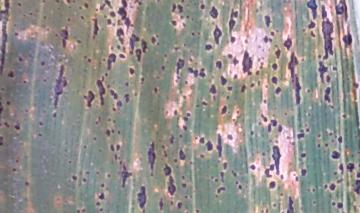tarspot: (287, 50, 305, 106), (1, 1, 14, 76), (320, 2, 336, 58), (52, 58, 69, 108), (240, 47, 255, 79), (115, 1, 133, 27), (134, 181, 148, 213), (228, 10, 241, 44), (146, 139, 157, 177), (115, 162, 133, 184), (163, 175, 178, 198), (272, 142, 282, 176), (82, 87, 97, 109), (127, 32, 139, 56), (59, 24, 70, 50), (173, 54, 186, 76), (215, 131, 225, 159), (96, 78, 106, 106), (212, 23, 223, 47), (322, 83, 334, 104), (283, 194, 296, 213), (90, 16, 100, 40), (318, 58, 327, 84), (105, 51, 118, 69), (114, 26, 126, 45), (207, 5, 221, 21), (107, 85, 121, 101), (340, 33, 355, 47), (262, 11, 273, 30), (283, 33, 294, 51), (329, 147, 343, 161), (335, 5, 348, 19), (140, 36, 150, 54), (175, 148, 187, 162), (352, 176, 360, 197), (150, 83, 162, 97), (227, 167, 241, 179), (207, 80, 218, 95), (48, 109, 63, 120), (157, 197, 167, 213), (185, 65, 197, 78), (199, 97, 212, 109), (348, 77, 360, 90), (102, 126, 113, 140), (218, 102, 229, 116), (12, 120, 22, 135), (197, 132, 207, 147), (205, 138, 214, 154), (123, 90, 131, 108), (161, 162, 172, 175), (344, 161, 357, 172), (175, 198, 186, 211), (339, 111, 352, 122), (215, 58, 225, 72), (245, 80, 260, 89), (198, 65, 207, 80), (168, 133, 177, 148), (308, 30, 319, 42), (21, 177, 33, 188), (179, 92, 191, 103), (247, 127, 258, 139), (273, 47, 283, 60), (127, 65, 137, 78), (337, 162, 347, 175), (1, 117, 11, 130), (225, 130, 234, 144), (14, 54, 25, 65), (69, 172, 80, 183), (258, 111, 269, 122), (97, 180, 108, 191), (303, 86, 314, 97), (198, 1, 208, 13), (103, 17, 115, 27), (36, 118, 46, 130), (216, 184, 228, 194), (80, 1, 92, 11), (9, 165, 21, 175), (84, 56, 96, 66), (205, 41, 214, 54), (274, 84, 283, 97), (330, 62, 339, 75), (7, 67, 15, 81), (220, 74, 228, 88), (150, 33, 158, 47), (218, 169, 226, 183), (269, 62, 280, 72), (248, 162, 258, 173), (296, 131, 307, 141), (262, 34, 272, 45), (180, 123, 191, 133), (307, 19, 316, 31), (4, 97, 13, 109), (171, 106, 180, 118), (178, 181, 190, 190), (329, 180, 336, 195), (177, 1, 184, 16), (268, 178, 276, 191), (322, 181, 330, 194), (336, 134, 346, 144), (313, 139, 323, 149), (198, 151, 208, 161), (37, 58, 46, 69), (182, 76, 191, 87), (239, 82, 247, 94), (169, 1, 177, 13), (329, 198, 337, 210), (232, 55, 239, 68), (337, 198, 343, 213), (1, 132, 6, 150), (259, 149, 269, 158), (116, 51, 126, 60), (255, 67, 264, 77), (171, 19, 179, 30), (97, 191, 105, 202), (299, 150, 307, 161), (235, 183, 246, 191), (266, 122, 273, 134), (108, 9, 117, 18), (139, 75, 148, 84), (225, 51, 233, 61), (103, 171, 113, 179), (36, 130, 44, 140), (20, 78, 30, 86), (271, 73, 277, 86), (108, 141, 115, 152), (180, 115, 191, 122), (114, 143, 122, 152), (97, 204, 105, 213), (276, 124, 286, 131), (294, 175, 301, 185), (189, 30, 197, 38), (300, 167, 307, 176), (65, 1, 75, 7), (115, 100, 123, 107), (13, 31, 21, 38), (83, 170, 94, 175), (158, 65, 167, 70)
